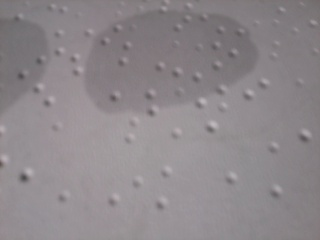Water_detected: (117, 20, 233, 101), (0, 45, 55, 127)
